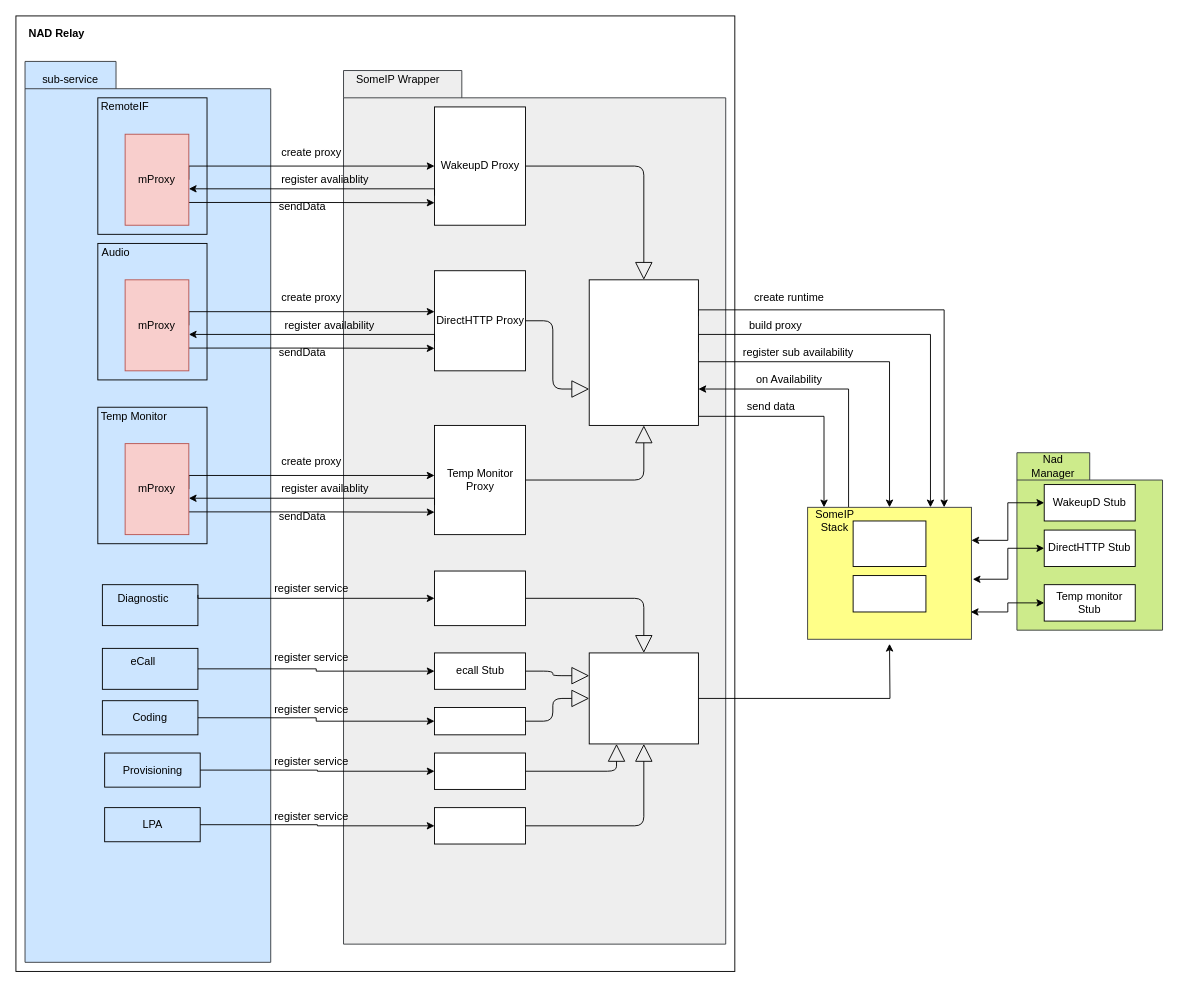
The diagram is 1178 pixels wide and 987 high, and some of its shapes have lost their labels. Here are the shapes that lost their labels. From the top down, the centre of each, then its label:
At pixel 643 352: "Proxy Base".
At pixel 889 543: "commonAPI".
At pixel 480 598: "Diagnostic Stub".
At pixel 889 593: "Vsomeip".
At pixel 643 698: "Stub Base".
At pixel 480 721: "Coding stub".
At pixel 480 770: "Provisioning stub".
At pixel 480 825: "LPA stub".
